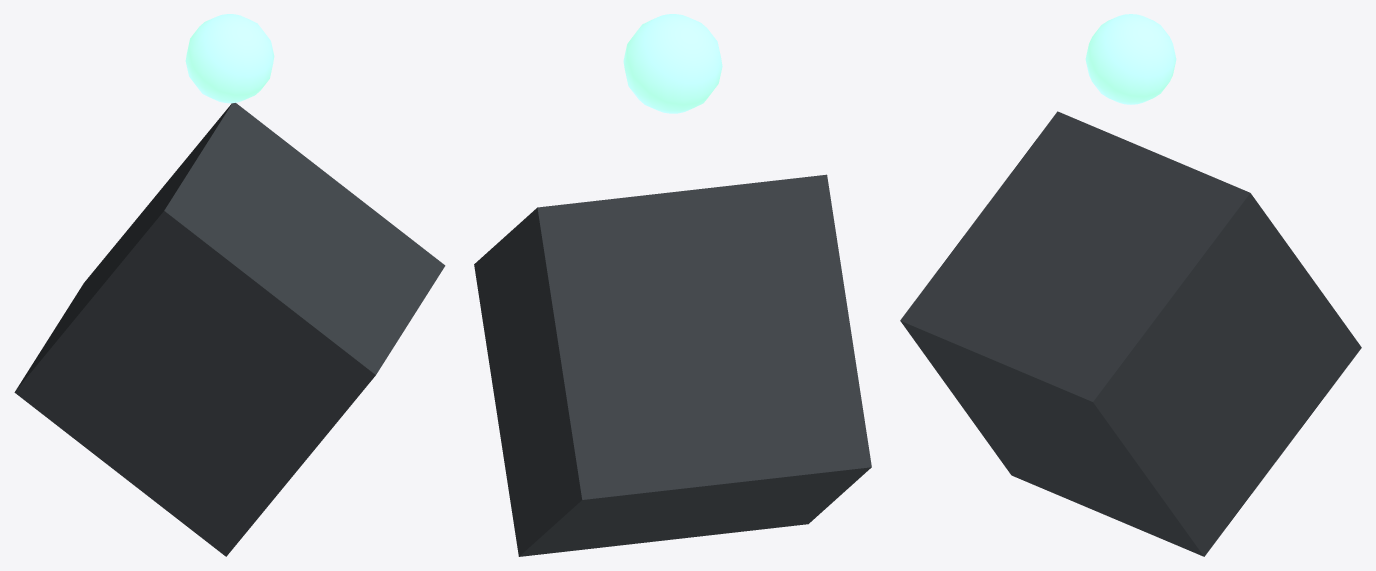
The model's file is sonar_unknown.glb.
3 renders of one model, left to right at view 1: azimuth 30°, elevation 25°; view 2: azimuth 150°, elevation 25°; view 3: azimuth 270°, elevation 25°, orthographic. The views are drawn at different scales.
Parts seen in each view (by area): view 1: unknown cube, unknown dot; view 2: unknown cube, unknown dot; view 3: unknown cube, unknown dot.
Boxes of the visible parts, x1,y1,x2,y2 form: unknown cube: [14, 103, 445, 556]; unknown dot: [185, 14, 274, 103]; unknown cube: [474, 174, 871, 556]; unknown dot: [623, 14, 722, 113]; unknown cube: [900, 111, 1361, 556]; unknown dot: [1085, 14, 1176, 104].
Bounding box in the file's own units: 0.457 × 0.5332 × 0.457.
